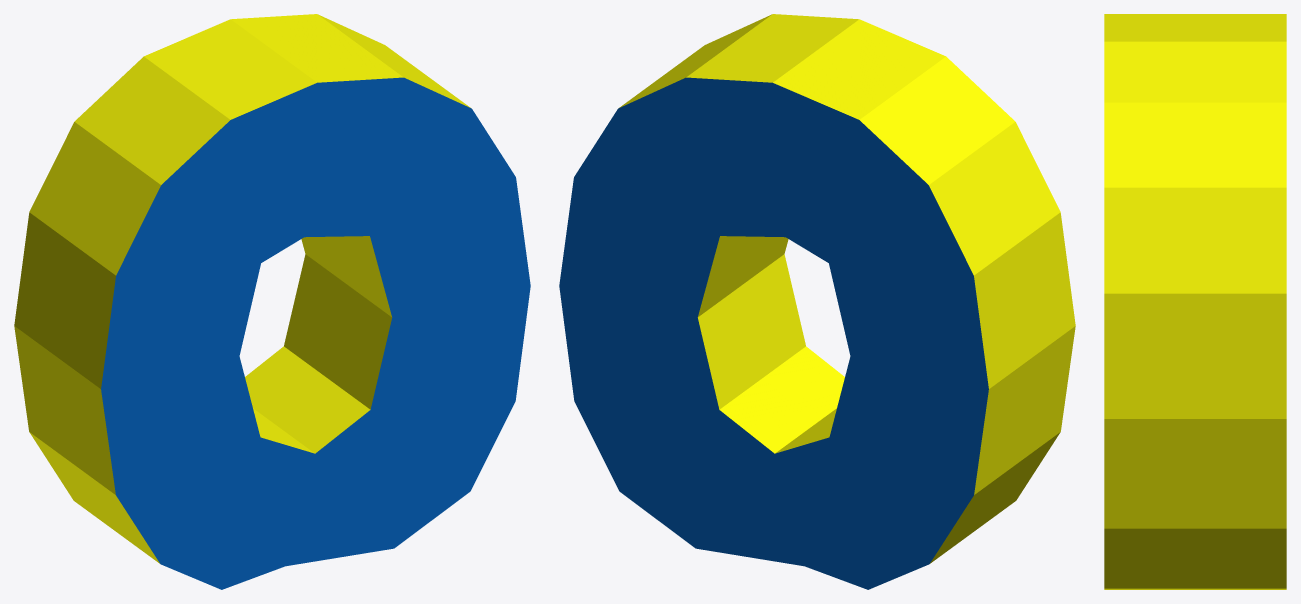
The picture shows the model from 3 angles, left to right: view 1: azimuth 30°, elevation 25°; view 2: azimuth 150°, elevation 25°; view 3: azimuth 270°, elevation 25°; orthographic projection. The views are drawn at different scales.
Visible parts, largest first — view 1: text: ABCDEFGHIJKLMNOPQRSTUVWXYZ01234567891_sep15_blue, text: ABCDEFGHIJKLMNOPQRSTUVWXYZ01234567891_sep15_yellow; view 2: text: ABCDEFGHIJKLMNOPQRSTUVWXYZ01234567891_sep15_blue, text: ABCDEFGHIJKLMNOPQRSTUVWXYZ01234567891_sep15_yellow; view 3: text: ABCDEFGHIJKLMNOPQRSTUVWXYZ01234567891_sep15_yellow.
Part boxes in pixels (<box>): text: ABCDEFGHIJKLMNOPQRSTUVWXYZ01234567891_sep15_blue: <box>101,77,530,589</box>; text: ABCDEFGHIJKLMNOPQRSTUVWXYZ01234567891_sep15_yellow: <box>14,14,470,563</box>; text: ABCDEFGHIJKLMNOPQRSTUVWXYZ01234567891_sep15_blue: <box>559,77,988,589</box>; text: ABCDEFGHIJKLMNOPQRSTUVWXYZ01234567891_sep15_yellow: <box>619,14,1075,563</box>; text: ABCDEFGHIJKLMNOPQRSTUVWXYZ01234567891_sep15_yellow: <box>1104,14,1286,589</box>.
Size of the model in its own units: 71.46 by 77.02 by 25.
